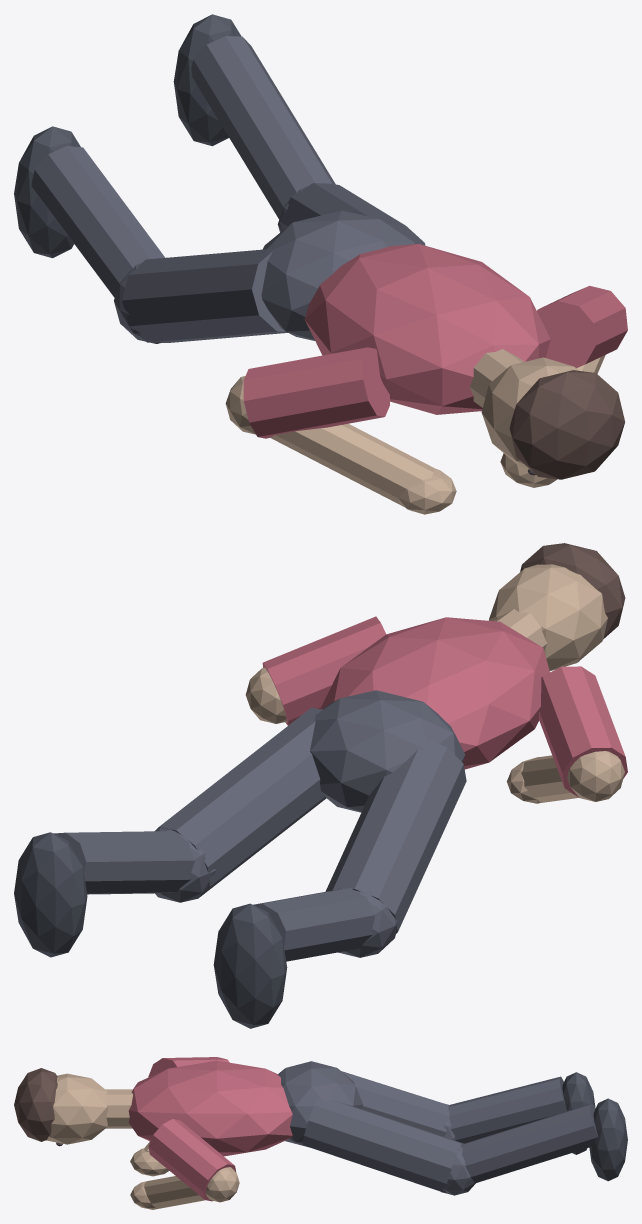
3 views of the same model, one above another, from view 1: azimuth 30°, elevation 25°; view 2: azimuth 150°, elevation 25°; view 3: azimuth 270°, elevation 25° (orthographic). The views are drawn at different scales.
Parts seen in each view (by area): view 1: world; view 2: world; view 3: world.
Part boxes in pixels (<box>): world: <box>14,14,627,514</box>; world: <box>14,543,627,1028</box>; world: <box>14,1057,627,1209</box>.
Size of the model in its own units: 0.93 by 0.44 by 2.01.
